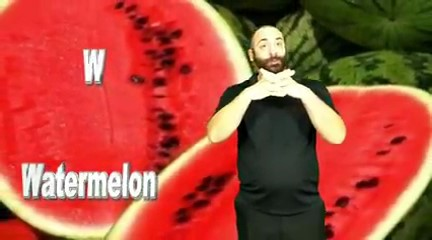W: (248, 65, 305, 105)
